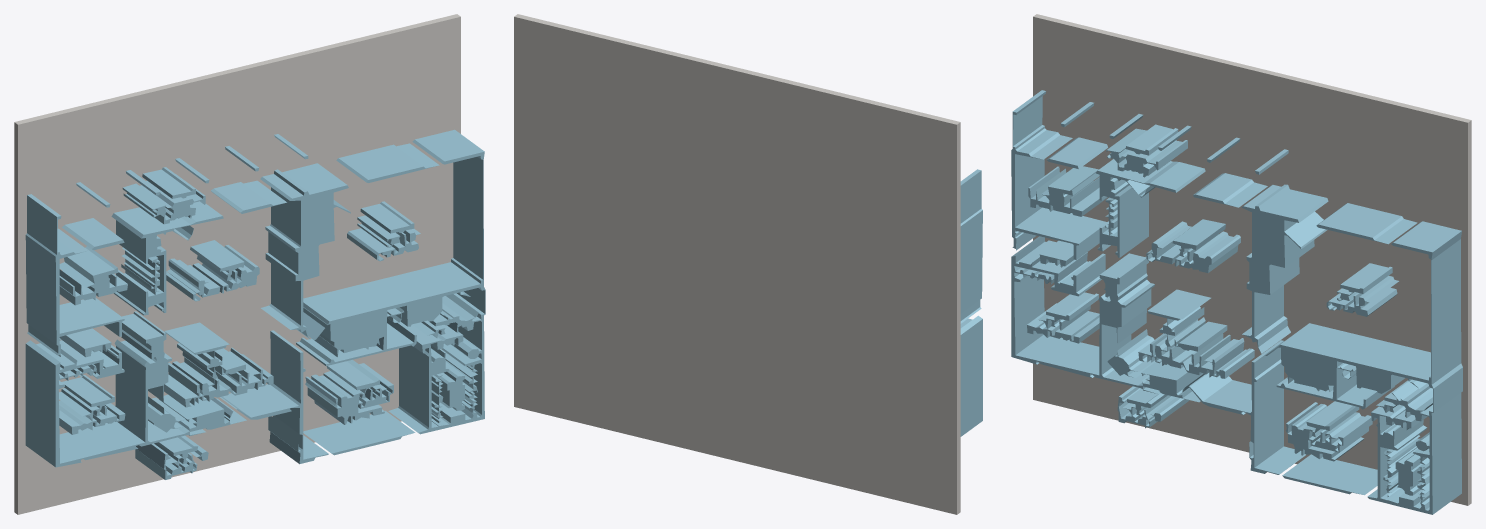
The picture shows the model from 3 angles, left to right: view 1: azimuth 30°, elevation 25°; view 2: azimuth 150°, elevation 25°; view 3: azimuth 330°, elevation 25°; orthographic projection.
Visible parts, largest first — view 1: world; view 2: world; view 3: world.
Boxes of the visible parts, x1,y1,x2,y2 form: world: (14,14,485,514); world: (514,14,982,514); world: (1011,14,1471,514).
Size of the model in its own units: 10.23 by 8.61 by 1.35.
